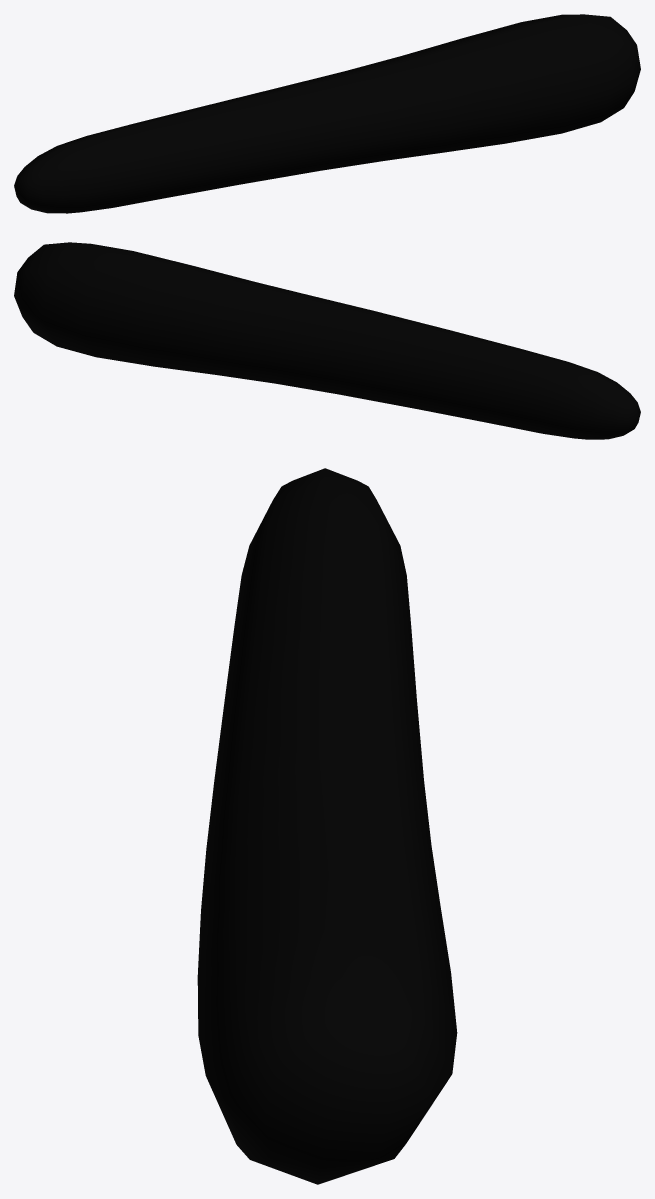
Rendered from PuroHueso_Brazo_R_1.obj.
3 renders of one model, top to bottom at view 1: azimuth 30°, elevation 25°; view 2: azimuth 150°, elevation 25°; view 3: azimuth 270°, elevation 25°, orthographic. The views are drawn at different scales.
Visible parts, largest first — view 1: PuroHueso_Brazo_R_1; view 2: PuroHueso_Brazo_R_1; view 3: PuroHueso_Brazo_R_1.
Boxes of the visible parts, x1,y1,x2,y2 form: PuroHueso_Brazo_R_1: (14, 14, 640, 213); PuroHueso_Brazo_R_1: (14, 242, 640, 439); PuroHueso_Brazo_R_1: (197, 468, 457, 1184).
Size of the model in its own units: 0.3064 by 0.052 by 0.0561.
Materials: 1 (1 with a texture image).
